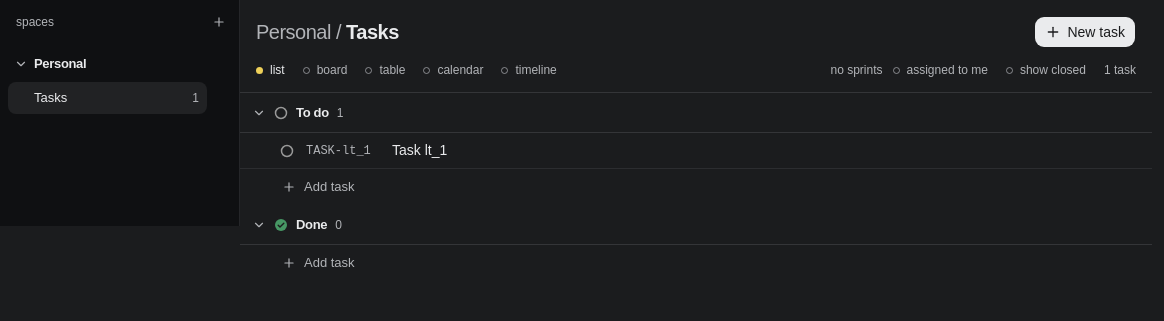
Test: LocalTasksPage › opens the first list grouped by status and hides closed tasks by default
Check: the heading "Personal / Tasks" is shown, box [256,21,399,43]
Check: the button "Task lt_1" is shown, box [392,140,980,161]
Click the button "show closed". click: (1046, 70)
box: [998,56,1094,84]
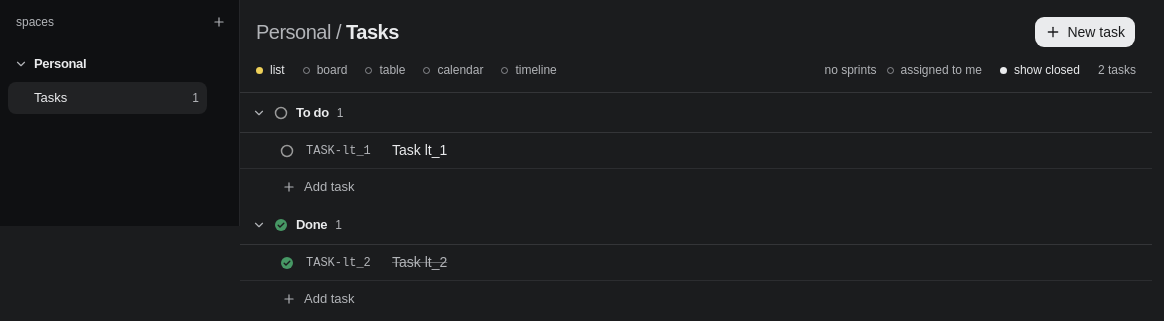
Check: the button "Task lt_2" is shown, box [392,252,980,273]
